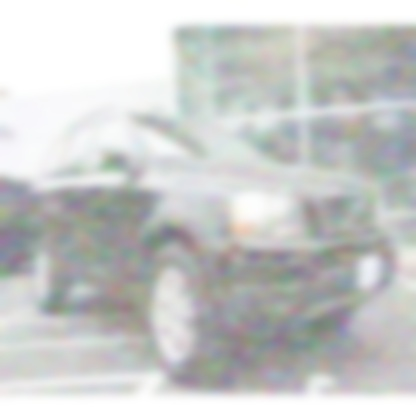Vehicle: (22, 103, 397, 389)
